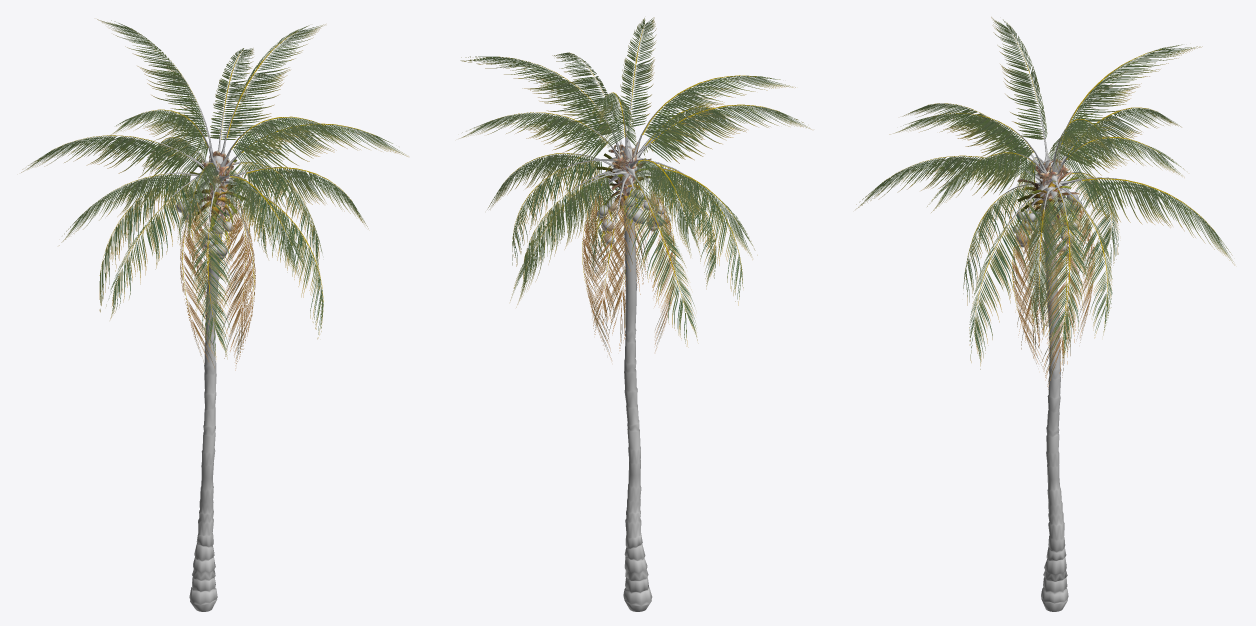
Rendered from palm 1.obj.
The picture shows the model from 3 angles, left to right: view 1: azimuth 30°, elevation 25°; view 2: azimuth 150°, elevation 25°; view 3: azimuth 270°, elevation 25°; orthographic projection.
Parts seen in each view (by area): view 1: coconut_palm2, coconut_palm1; view 2: coconut_palm2, coconut_palm1; view 3: coconut_palm2, coconut_palm1.
Boxes of the visible parts, x1,y1,x2,y2 form: coconut_palm2: (21,19,408,370); coconut_palm1: (151,98,282,611); coconut_palm2: (459,17,811,360); coconut_palm1: (560,91,688,611); coconut_palm2: (855,17,1234,389); coconut_palm1: (982,102,1123,611).
Bounding box in the file's own units: 5.51 × 9.71 × 6.31.
